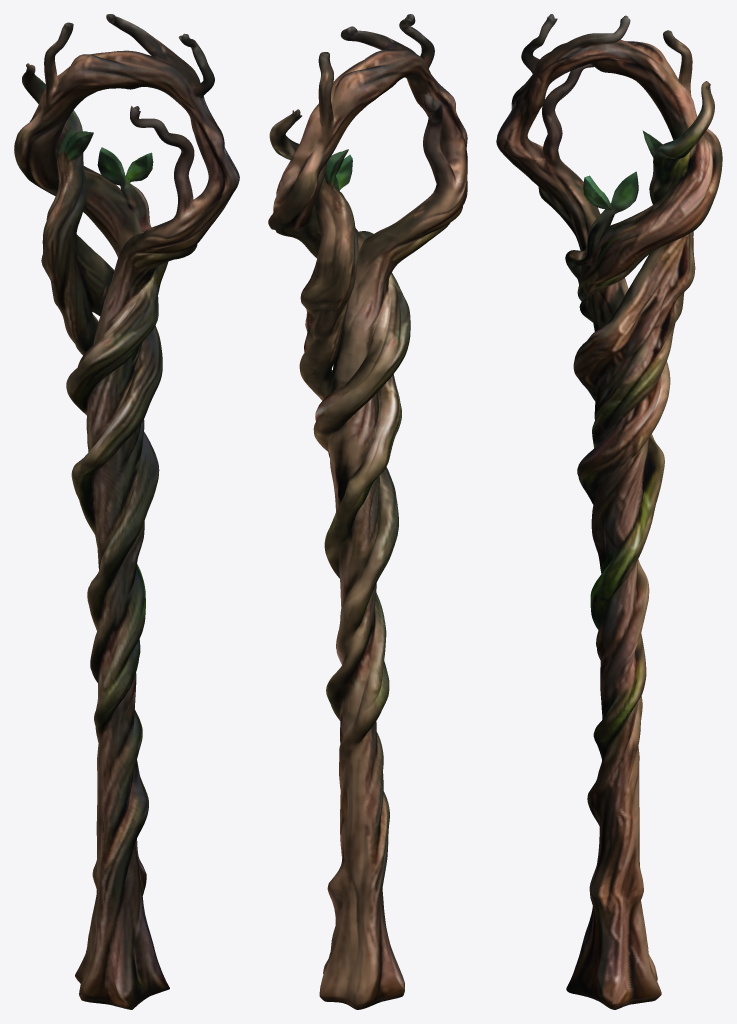
File: staff_fantasy_1.glb
3 renders of one model, left to right at view 1: azimuth 90°, elevation 25°; view 2: azimuth 150°, elevation 25°; view 3: azimuth 270°, elevation 25°, orthographic.
Visible parts, largest first — view 1: staff_fantasy_1.glb_1; view 2: staff_fantasy_1.glb_1; view 3: staff_fantasy_1.glb_1.
Boxes of the visible parts, x1,y1,x2,y2 form: staff_fantasy_1.glb_1: [14, 14, 239, 1009]; staff_fantasy_1.glb_1: [268, 14, 467, 1009]; staff_fantasy_1.glb_1: [496, 14, 722, 1009].
Size of the model in its own units: 0.2459 by 1.75 by 0.3665.
1 material, 1 textured.
